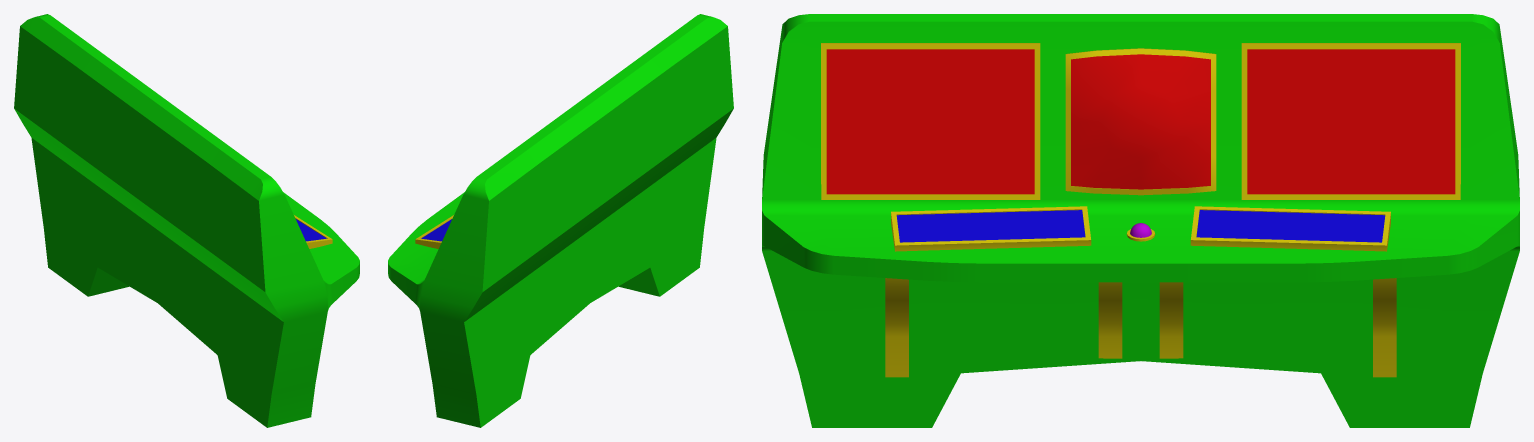
The model's file is Ctrl_Panel_01a.fbx.
3 views of the same model, side by side, from view 1: azimuth 30°, elevation 25°; view 2: azimuth 150°, elevation 25°; view 3: azimuth 270°, elevation 25° (orthographic). The views are drawn at different scales.
Visible parts, largest first — view 1: Ctrl_Panel_01a_low; view 2: Ctrl_Panel_01a_low; view 3: Ctrl_Panel_01a_low.
Boxes of the visible parts, left/top/right/bottom form: Ctrl_Panel_01a_low: left=14, top=14, right=359, bottom=427; Ctrl_Panel_01a_low: left=388, top=14, right=733, bottom=427; Ctrl_Panel_01a_low: left=762, top=14, right=1519, bottom=427.
Bounding box in the file's own units: 37.12 × 128 × 70.
